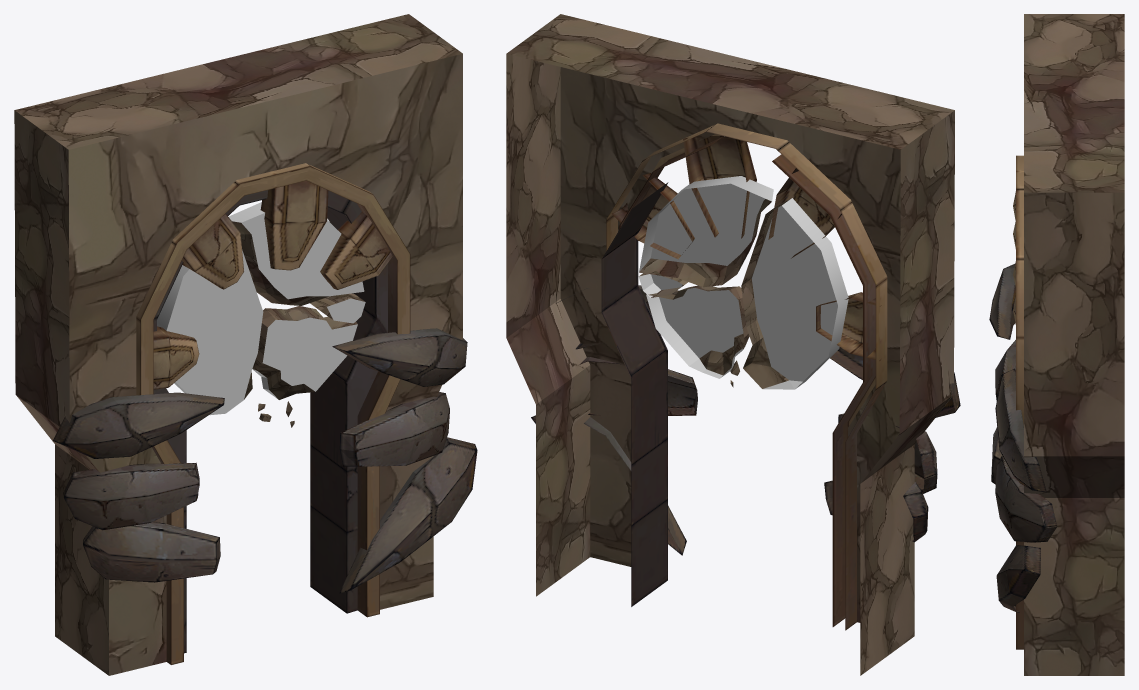
File: 2_DG_QiangMian_01.FBX
3 renders of one model, left to right at view 1: azimuth 30°, elevation 25°; view 2: azimuth 150°, elevation 25°; view 3: azimuth 270°, elevation 25°, orthographic. The views are drawn at different scales.
Visible parts, largest first — view 1: 2_DG_QiangMian_01; view 2: 2_DG_QiangMian_01; view 3: 2_DG_QiangMian_01.
Part boxes in pixels (<box>): 2_DG_QiangMian_01: <box>14,14,477,675</box>; 2_DG_QiangMian_01: <box>506,14,960,675</box>; 2_DG_QiangMian_01: <box>989,14,1124,675</box>.
Bounding box in the file's own units: 672 × 813 × 200.
